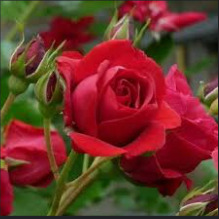RedRose: (52, 39, 179, 165)
